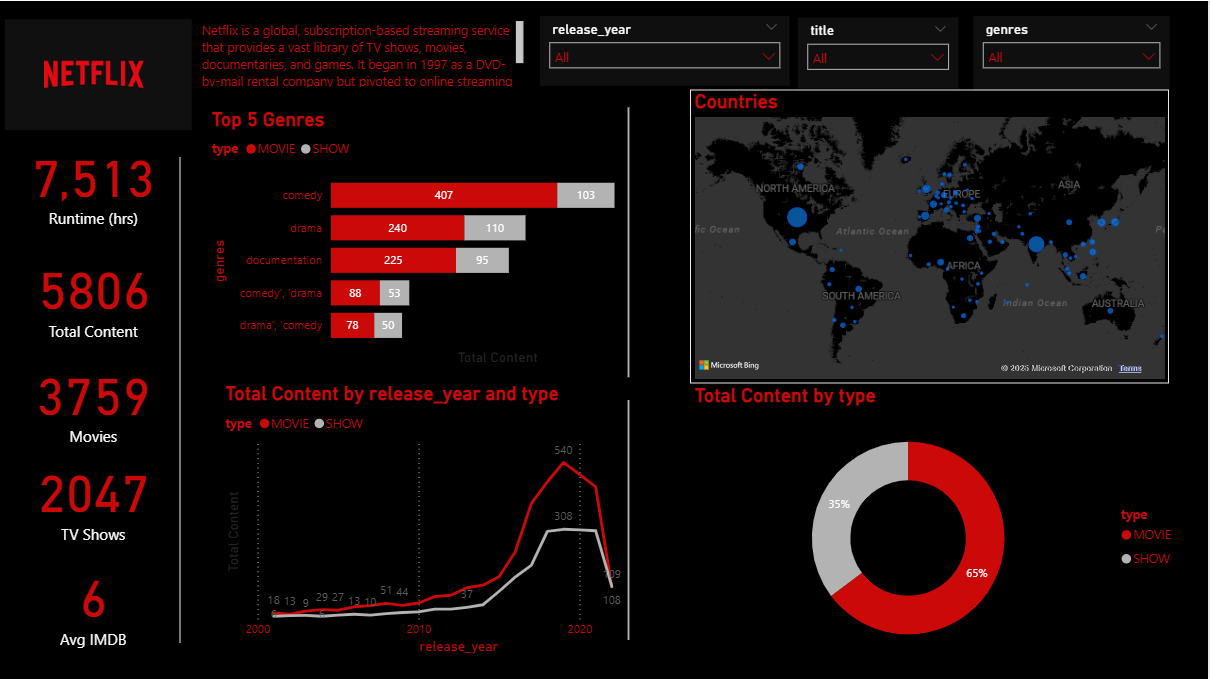

What the dashboard file says about the page in this screenshot:
{"tool":"powerbi","page":{"name":"Page 1","canvas":[1280,720],"ordinal":0},"visuals":[{"type":"card","fields":{"Values":["credits.Runtime (hrs)"]},"box":[0,133.6,197.2,116.1],"z":0},{"type":"card","fields":{"Values":["credits.Total Content"]},"box":[0,249.7,197.2,122.5],"z":1000},{"type":"card","fields":{"Values":["credits.Movies"]},"box":[0,372.2,197.2,101.8],"z":2000},{"type":"card","fields":{"Values":["credits.Avg IMDB"]},"box":[0,579,197.2,117.7],"z":3000},{"type":"lineChart","fields":{"Category":["titles.release_year"],"Y":["credits.Total Content"],"Series":["titles.type"]},"box":[234.3,404.4,483.8,292.9],"z":4000},{"type":"card","fields":{"Values":["credits.TV Shows"]},"box":[0,474,197.2,105],"z":5000},{"type":"barChart","title":"Top 5 Genres","fields":{"Category":["titles.genres"],"Y":["credits.Total Content"],"Series":["titles.type"]},"box":[219.5,112.9,489.9,276.8],"z":6000},{"type":"map","title":"Countries","fields":{"Category":["titles.production_countries"],"Size":["credits.Runtime (hrs)"]},"box":[731.3,94.5,508.4,311.8],"z":7000},{"type":"donutChart","fields":{"Category":["titles.type"],"Y":["credits.Total Content"]},"box":[731.7,405.6,524.9,303.8],"z":8000},{"type":"image","box":[0,0,208.4,155.9],"z":9000},{"type":"slicer","fields":{"Values":["titles.release_year"]},"box":[572.6,15.1,264.6,73.7],"z":10000},{"type":"slicer","fields":{"Values":["titles.title"]},"box":[846.6,17,170.1,75.6],"z":11000},{"type":"slicer","fields":{"Values":["titles.genres"]},"box":[1031.8,15.1,207.9,79.4],"z":12000},{"type":"textbox","box":[208.4,15.9,351.5,79.5],"z":13000},{"type":"shape","box":[173.4,165.4,35,515.4],"z":14000},{"type":"shape","box":[639.4,112.9,54.1,286.3],"z":14001},{"type":"shape","box":[551.9,423.1,229,254.5],"z":14002}]}

Visuals, with their boxes in screenshot pixels (x1, y1, x2, y2), scaled from the page's 1280x720 canvas onto the 1210x679 screenshot:
card - credits.Runtime (hrs): crop(0, 126, 186, 235)
card - credits.Total Content: crop(0, 235, 186, 351)
card - credits.Movies: crop(0, 351, 186, 447)
card - credits.Avg IMDB: crop(0, 546, 186, 657)
lineChart - titles.release_year x credits.Total Content: crop(221, 381, 679, 658)
card - credits.TV Shows: crop(0, 447, 186, 546)
"Top 5 Genres" barChart: crop(207, 106, 671, 368)
"Countries" map: crop(691, 89, 1172, 383)
donutChart - titles.type x credits.Total Content: crop(692, 383, 1188, 669)
image: crop(0, 0, 197, 147)
slicer - titles.release_year: crop(541, 14, 791, 84)
slicer - titles.title: crop(800, 16, 961, 87)
slicer - titles.genres: crop(975, 14, 1172, 89)
textbox: crop(197, 15, 529, 90)
shape: crop(164, 156, 197, 642)
shape: crop(604, 106, 656, 376)
shape: crop(522, 399, 738, 639)
